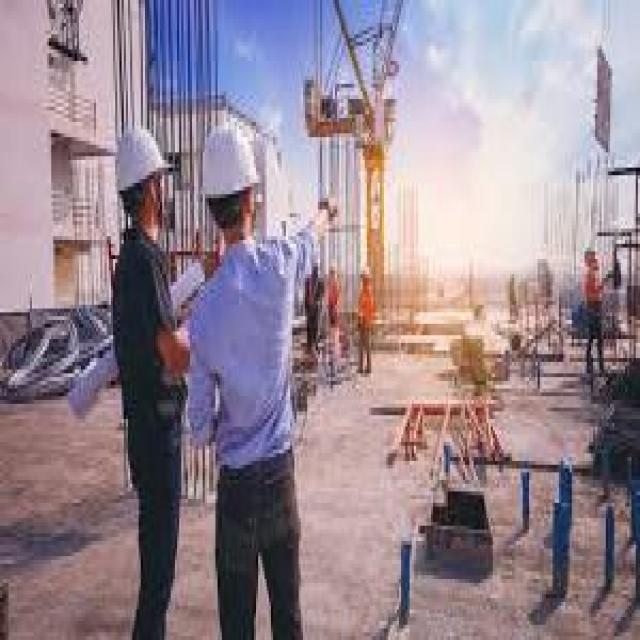Reflective-Jacket: (104, 232, 190, 434)
Safety-Helmet: (194, 118, 263, 210), (107, 118, 175, 202)
